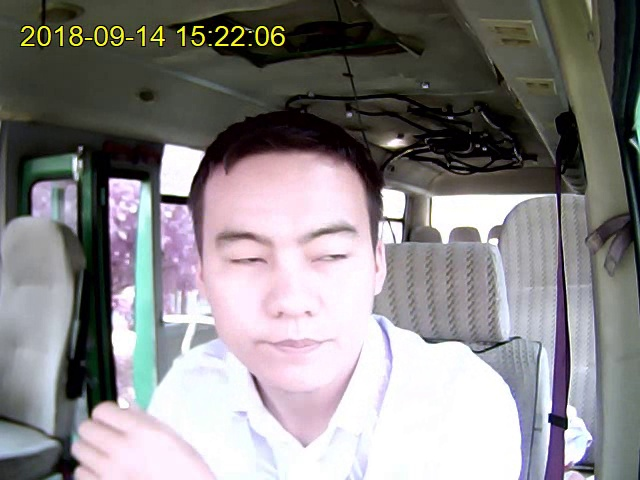closed_mouth: (262, 334, 336, 358)
